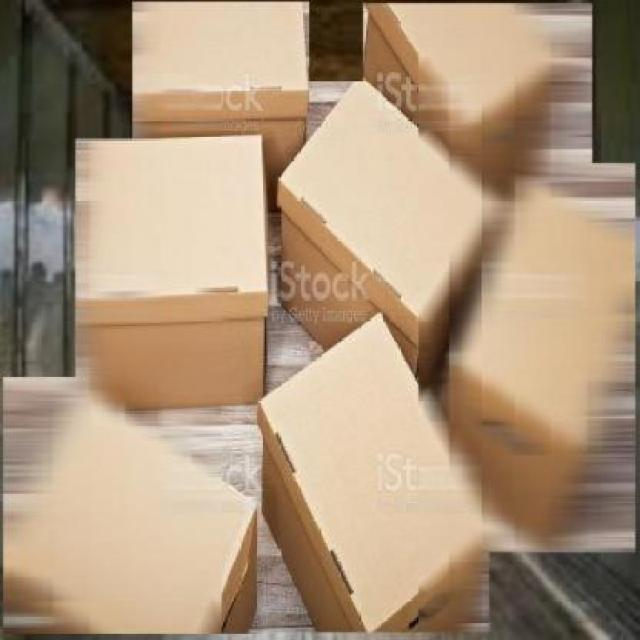box: (249, 298, 494, 639), (446, 156, 640, 561), (0, 374, 265, 638), (274, 77, 504, 375), (72, 134, 288, 412), (361, 0, 596, 226), (129, 0, 314, 157)
